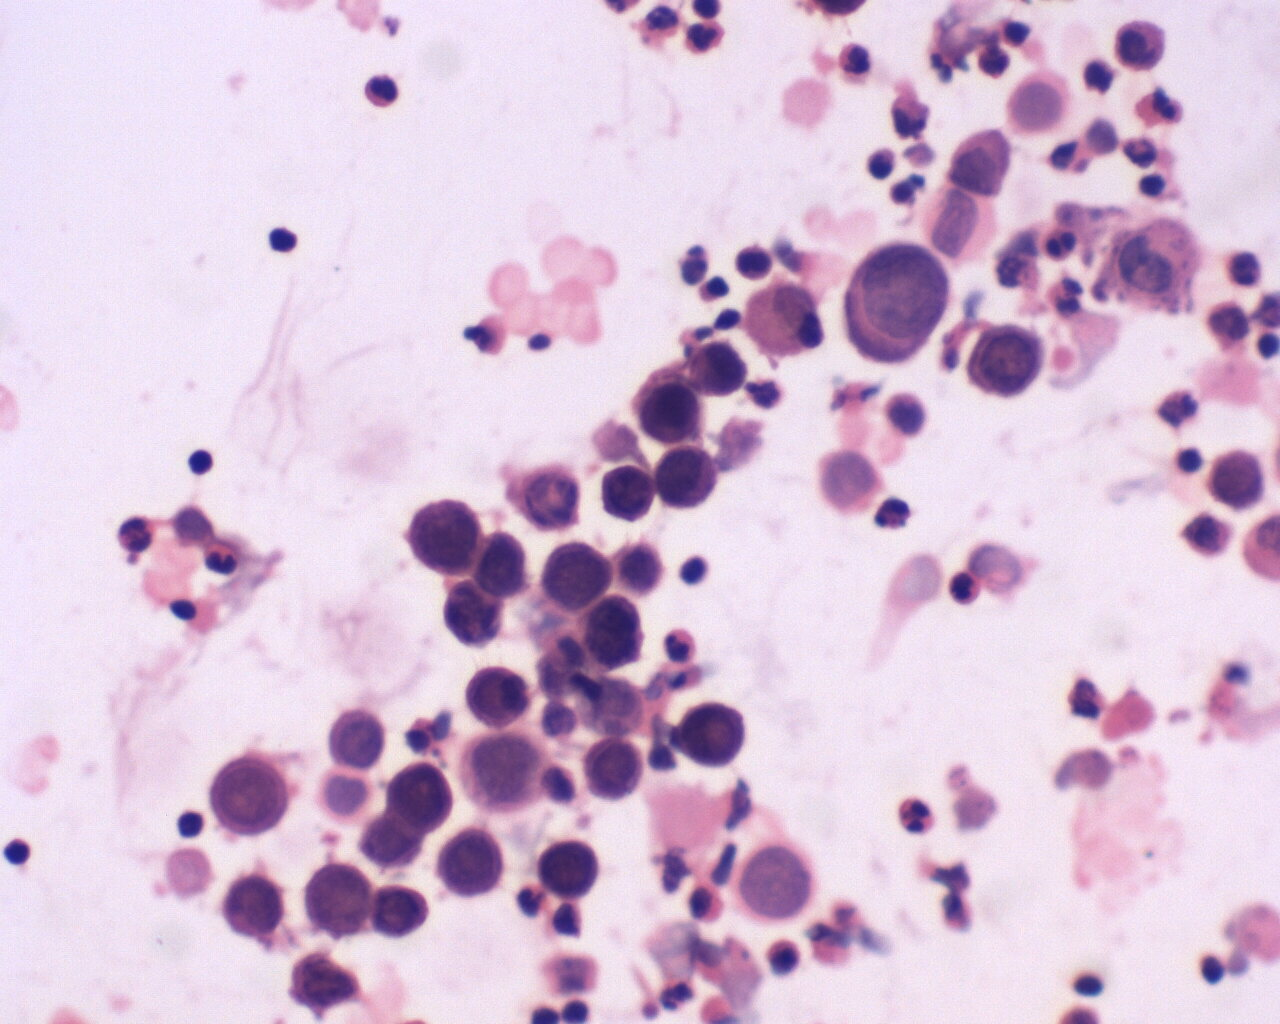ab: (841, 242, 953, 377), (206, 752, 287, 839), (967, 317, 1044, 403), (400, 499, 484, 578), (300, 857, 373, 937), (386, 763, 463, 833), (672, 698, 742, 773), (439, 825, 508, 900), (217, 872, 287, 945), (540, 538, 610, 609), (536, 837, 603, 906), (653, 444, 720, 512), (638, 377, 705, 445), (467, 662, 533, 729), (584, 738, 646, 801), (328, 711, 386, 769), (380, 880, 434, 942), (601, 465, 654, 521)
lymph: (266, 222, 304, 259), (1167, 440, 1205, 476), (174, 810, 206, 841), (4, 838, 34, 870), (185, 445, 215, 478)
neutro: (897, 791, 941, 838), (678, 16, 724, 61), (363, 68, 402, 112), (1042, 225, 1083, 262), (661, 628, 701, 666)
